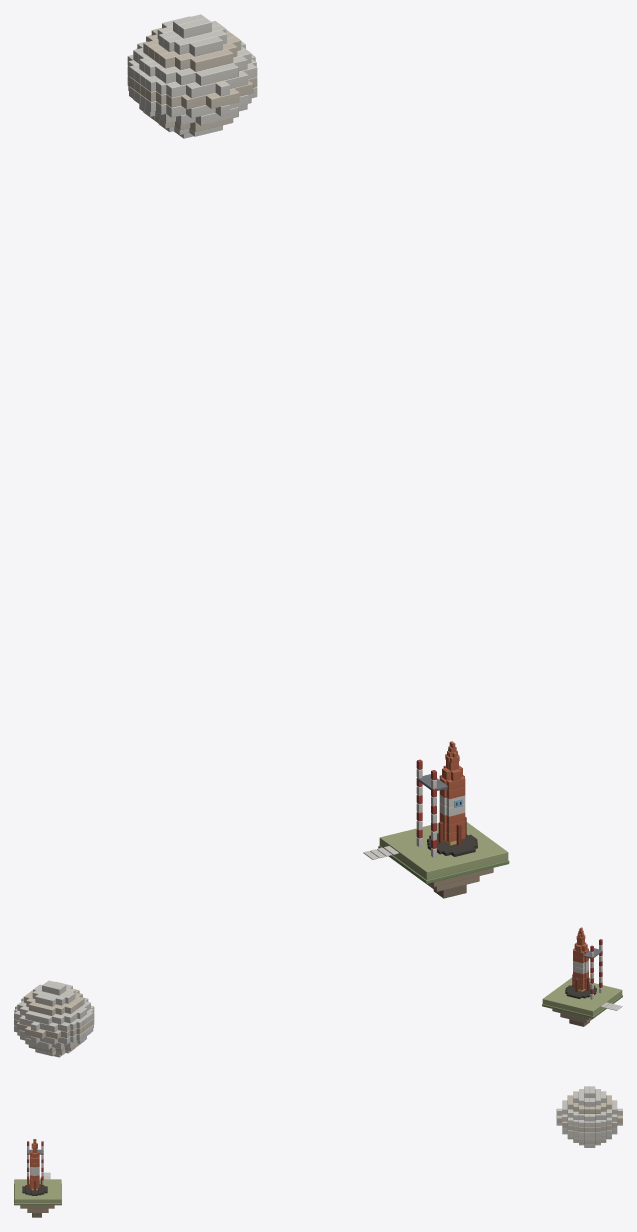
Rendered from region_30.glb.
The picture shows the model from 3 angles, top to bottom: view 1: azimuth 30°, elevation 25°; view 2: azimuth 150°, elevation 25°; view 3: azimuth 270°, elevation 25°; orthographic projection. The views are drawn at different scales.
Parts seen in each view (by area): view 1: region_30_glow, region_30_static, region_30_rocket; view 2: region_30_glow, region_30_static, region_30_rocket; view 3: region_30_glow, region_30_static, region_30_rocket.
Boxes of the visible parts, left/top/right/bottom form: region_30_glow: left=127, top=14, right=257, bottom=138; region_30_static: left=363, top=759, right=509, bottom=898; region_30_rocket: left=438, top=741, right=466, bottom=845; region_30_glow: left=14, top=980, right=94, bottom=1057; region_30_static: left=542, top=939, right=622, bottom=1026; region_30_rocket: left=572, top=927, right=589, bottom=991; region_30_glow: left=556, top=1086, right=622, bottom=1147; region_30_static: left=14, top=1141, right=61, bottom=1217; region_30_rocket: left=27, top=1139, right=42, bottom=1190.
Size of the model in its own units: 30.85 by 27.59 by 77.25.
